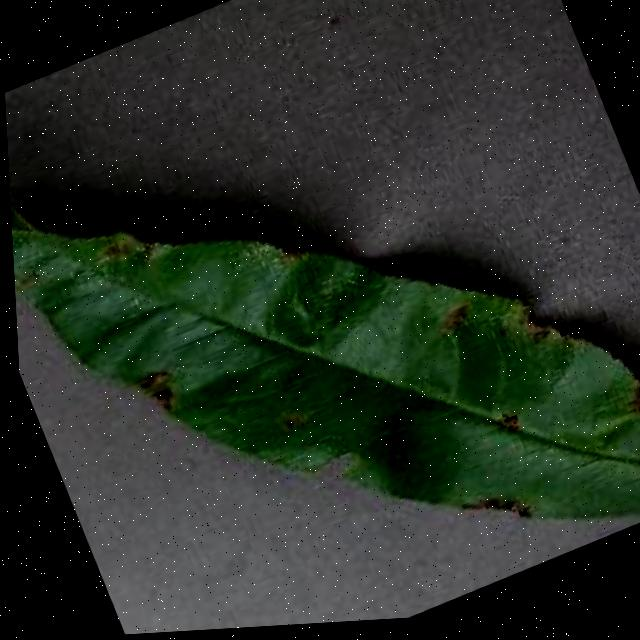Bacterial_spot: (495, 277, 574, 372), (417, 287, 491, 364), (126, 352, 194, 428), (258, 385, 324, 452), (475, 393, 531, 452), (614, 367, 640, 434)
